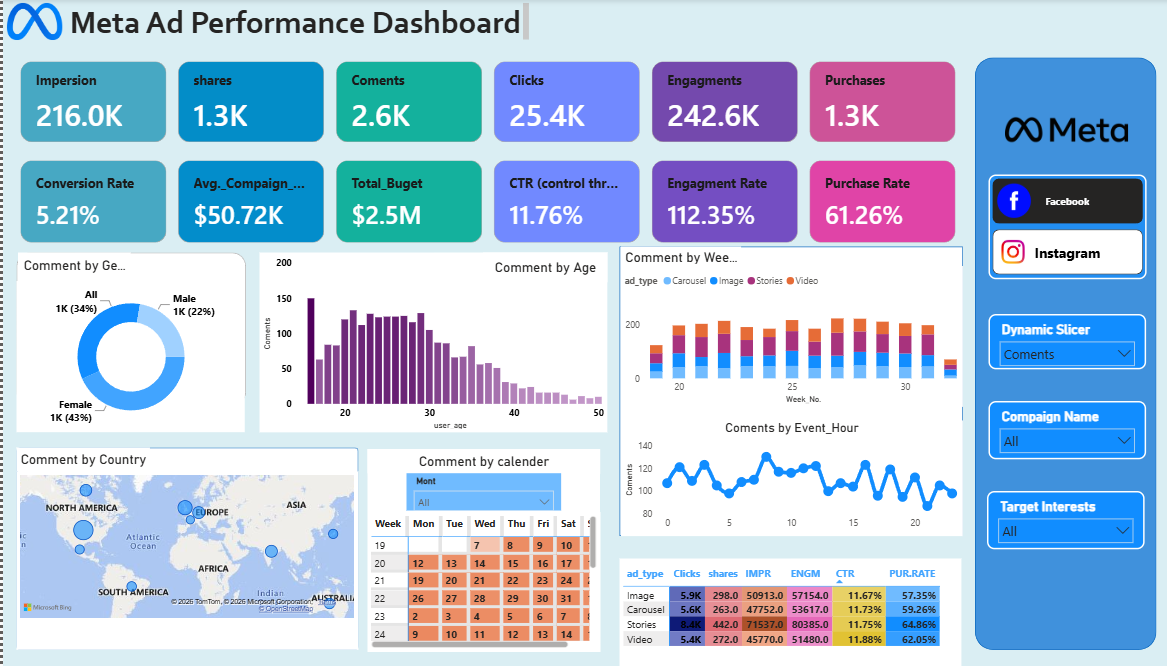

The page's visual inventory and layout, read from the dashboard file:
{"tool":"powerbi","page":{"name":"Facebook","canvas":[1570,900],"ordinal":0},"visuals":[{"type":"textbox","box":[85,0,629.5,60.7],"z":0},{"type":"image","box":[0,0,85,60.7],"z":1000},{"type":"shape","box":[1311.6,78.9,244.9,799.5],"z":2000},{"type":"cardVisual","fields":{"Data":["All_Measures.Impersion","All_Measures.shares","All_Measures.Coments","All_Measures.Clicks","All_Measures.Engagments","All_Measures.Purchases"]},"box":[18.2,78.9,1277.2,119.4],"z":3000},{"type":"cardVisual","fields":{"Data":["All_Measures.Conversion Rate","All_Measures.Avg._Compaign_per_buget","All_Measures.Total_Buget","All_Measures.CTR (control through rate)","All_Measures.Engagment Rate","All_Measures.Purchase Rate"]},"box":[18.2,212.5,1277.2,121.4],"z":4000},{"type":"slicer","fields":{"Values":["Dynamic Slicer.Dynamic Slicer"]},"box":[1329.8,425.1,212.5,74.9],"z":5000},{"type":"shape","box":[18.2,342.1,309.7,206.4],"z":6000},{"type":"donutChart","title":"Purchases by gender","fields":{"Y":["All_Measures.Coments"],"Category":["ads.target_gender"]},"box":[18.5,380.1,308.3,204],"z":7000},{"type":"card","fields":{"Values":["All_Measures.Gender Title"]},"box":[20,342,152,34],"z":8000},{"type":"columnChart","fields":{"Y":["All_Measures.Coments"],"Category":["users.user_age"]},"box":[346.1,342.1,469.6,242.9],"z":9000},{"type":"card","fields":{"Values":["All_Measures.Age Title"]},"box":[648,342,168,40],"z":10000},{"type":"shape","box":[18.2,605.2,461.5,273.2],"z":11000},{"type":"map","fields":{"Size":["All_Measures.Coments"],"Category":["users.country"]},"box":[18.2,637.6,461.5,240.9],"z":12000},{"type":"card","fields":{"Values":["All_Measures.country Title"]},"box":[18,606,180,32],"z":13000},{"type":"pivotTable","fields":{"Columns":["Calender.Day"],"Values":["Min(Calender.Day_Number)"],"Rows":["Calender.Week_No."]},"box":[491.8,692.2,313.7,188.2],"z":14000},{"type":"shape","box":[491.8,607.2,313.7,85],"z":15000},{"type":"slicer","fields":{"Values":["Calender.Mont"]},"box":[544.5,637.6,208.5,52.6],"z":16000},{"type":"card","fields":{"Values":["All_Measures.calender Title"]},"box":[491.8,607.2,313.7,32.4],"z":17000},{"type":"shape","box":[831.9,334,463.5,390.6],"z":18000},{"type":"columnChart","fields":{"Y":["All_Measures.Coments"],"Series":["ads.ad_type"],"Category":["Calender.Week_No."]},"box":[833.9,360.3,461.5,190.3],"z":19000},{"type":"card","fields":{"Values":["All_Measures.Weekely Title"]},"box":[834,334,162,28],"z":20000},{"type":"lineChart","fields":{"Y":["All_Measures.Coments"],"Category":["ad_events.Event_Hour"]},"box":[833.9,568.8,461.5,155.8],"z":21000},{"type":"pivotTable","fields":{"Rows":["ads.ad_type"],"Values":["All_Measures.Clicks","All_Measures.shares","All_Measures.Impersion","All_Measures.Engagments","All_Measures.CTR (control through rate)","All_Measures.Purchase Rate"]},"box":[831.9,755,461.5,145.7],"z":22000},{"type":"image","box":[1299.4,78.9,271.2,194.3],"z":23000},{"type":"slicer","fields":{"Values":["campaigns.name"]},"box":[1329.8,542.4,212.5,78.9],"z":24000},{"type":"slicer","fields":{"Values":["ads.target_interests"]},"box":[1327.8,663.9,212.5,78.9],"z":25000},{"type":"pageNavigator","box":[1330.5,236.4,213.2,141.4],"z":26000},{"type":"image","box":[1342.8,316.6,41.9,50.9],"z":27000},{"type":"image","box":[1335.5,236.5,56.4,71],"z":28000}]}

Visuals, with their boxes in screenshot pixels (x1, y1, x2, y2), scaled from the page's 1570x900 canvas onto the 1167x666 screenshot:
textbox: region(63, 0, 531, 45)
image: region(0, 0, 63, 45)
shape: region(975, 58, 1157, 650)
cardVisual - All_Measures.Impersion x All_Measures.shares: region(14, 58, 963, 147)
cardVisual - All_Measures.Conversion Rate x All_Measures.Avg._Compaign_per_buget: region(14, 157, 963, 247)
slicer - Dynamic Slicer.Dynamic Slicer: region(988, 315, 1146, 370)
shape: region(14, 253, 244, 406)
"Purchases by gender" donutChart: region(14, 281, 243, 432)
card - All_Measures.Gender Title: region(15, 253, 128, 278)
columnChart - All_Measures.Coments x users.user_age: region(257, 253, 606, 433)
card - All_Measures.Age Title: region(482, 253, 607, 283)
shape: region(14, 448, 357, 650)
map - All_Measures.Coments x users.country: region(14, 472, 357, 650)
card - All_Measures.country Title: region(13, 448, 147, 472)
pivotTable - Calender.Day x Min(Calender.Day_Number): region(366, 512, 599, 651)
shape: region(366, 449, 599, 512)
slicer - Calender.Mont: region(405, 472, 560, 511)
card - All_Measures.calender Title: region(366, 449, 599, 473)
shape: region(618, 247, 963, 536)
columnChart - All_Measures.Coments x ads.ad_type: region(620, 267, 963, 407)
card - All_Measures.Weekely Title: region(620, 247, 740, 268)
lineChart - All_Measures.Coments x ad_events.Event_Hour: region(620, 421, 963, 536)
pivotTable - ads.ad_type x All_Measures.Clicks: region(618, 559, 961, 665)
image: region(966, 58, 1166, 202)
slicer - campaigns.name: region(988, 401, 1146, 460)
slicer - ads.target_interests: region(987, 491, 1145, 550)
pageNavigator: region(989, 175, 1147, 280)
image: region(998, 234, 1029, 272)
image: region(993, 175, 1035, 228)
